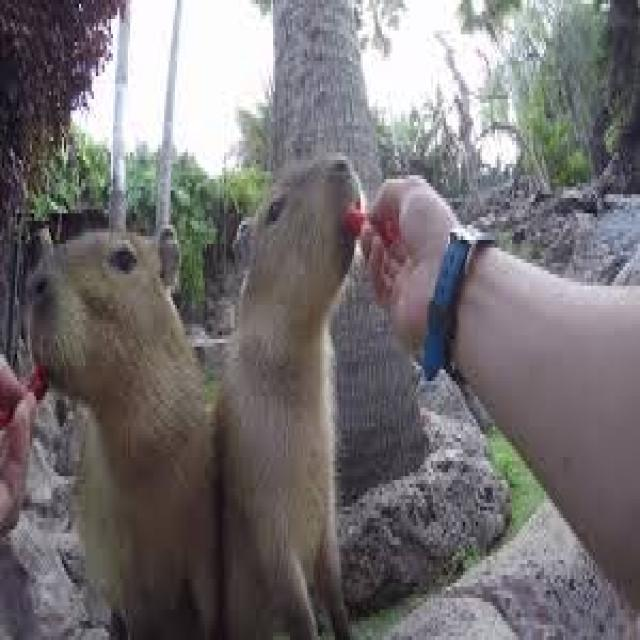capy: (22, 214, 228, 640), (220, 145, 365, 640)
